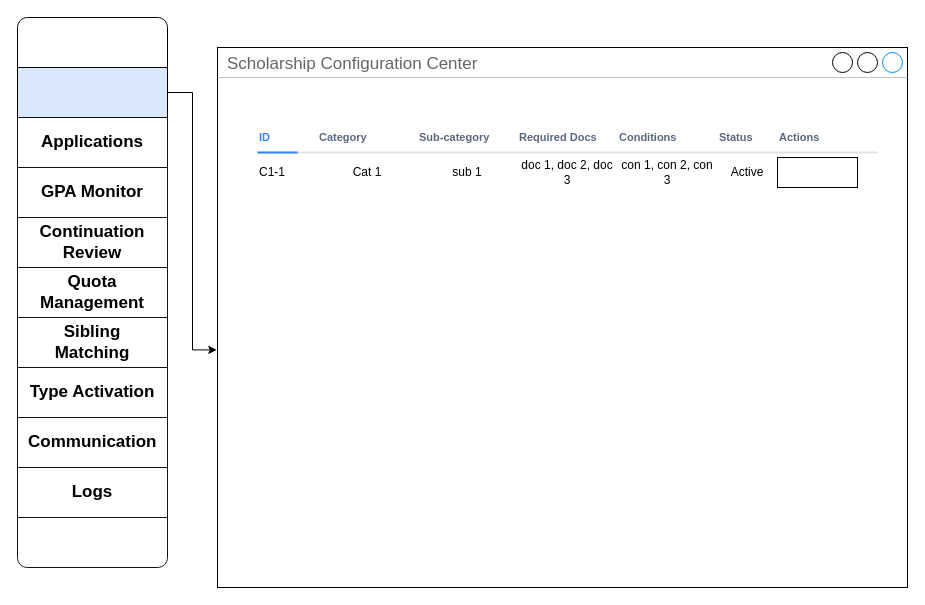
Some shapes in this 925 by 605 pixel diagram are drawn without their labels. Here are the shapes that lost their labels. From the top down, the centre of each, then its label:
At point 92,42: "Dashboard".
At point 92,92: "Configuration".
At point 92,542: "Reports".
